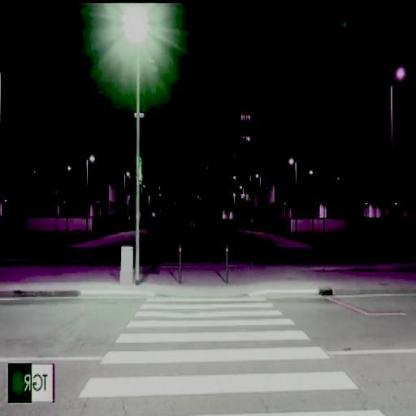crosswalk: (73, 343, 360, 405), (121, 307, 306, 331)
